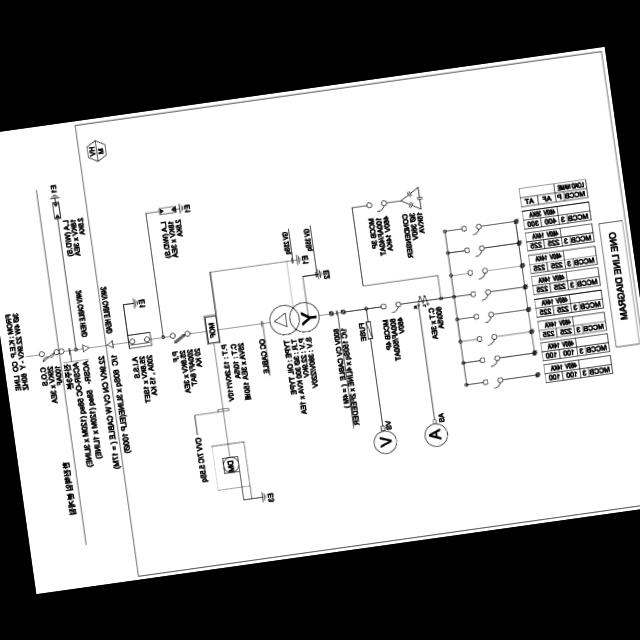A: (422, 422, 448, 448)
CT: (414, 293, 428, 306)
GND: (294, 253, 300, 266), (47, 193, 59, 199), (132, 296, 138, 308), (177, 202, 183, 214), (260, 490, 266, 502), (316, 268, 322, 280)
LA: (51, 200, 60, 219), (157, 205, 176, 214)
PF: (168, 330, 190, 344)
PF2: (38, 348, 58, 362)
SC: (398, 186, 424, 210)
TR: (266, 299, 321, 336)
V: (371, 429, 398, 455)
